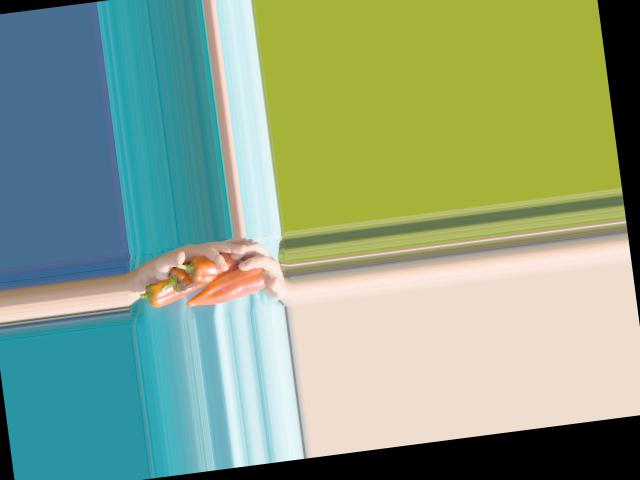bell_pepper: (137, 274, 193, 309)
